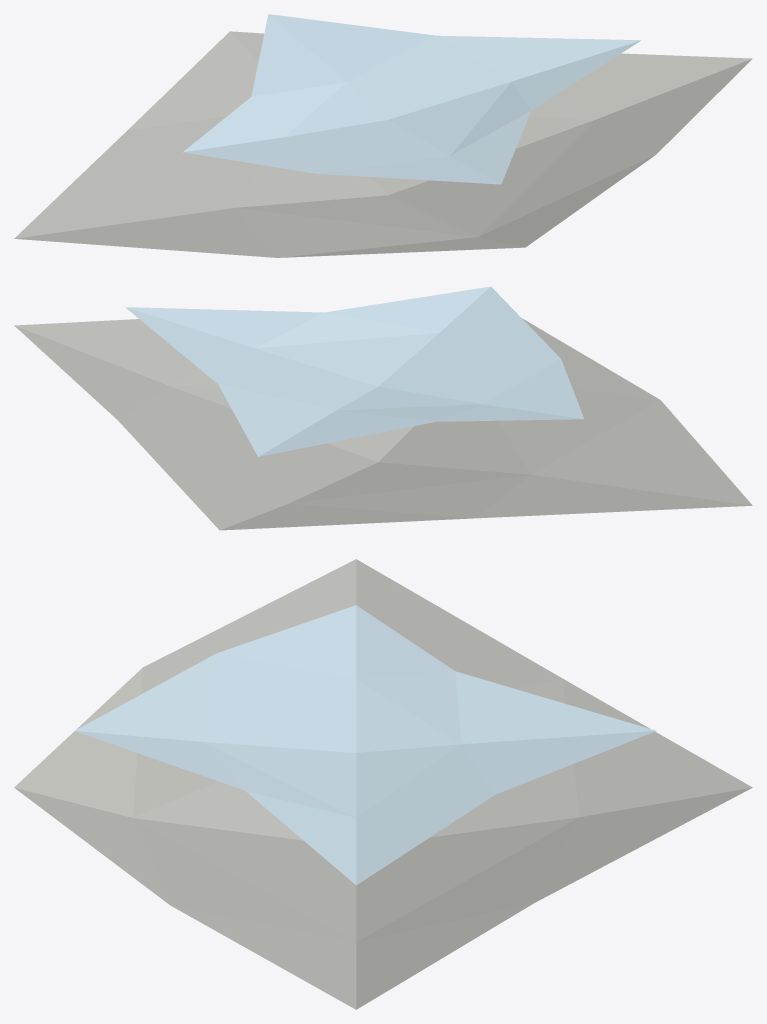
Rendered from puddle_stone_v11.glb.
3 renders of one model, top to bottom at view 1: azimuth 30°, elevation 25°; view 2: azimuth 150°, elevation 25°; view 3: azimuth 270°, elevation 25°, orthographic. The views are drawn at different scales.
Visible parts, largest first — view 1: lod0; view 2: lod0; view 3: lod0.
Part boxes in pixels (x1=…): lod0: x1=14, y1=14, x2=752, y2=257; lod0: x1=14, y1=286, x2=752, y2=530; lod0: x1=14, y1=559, x2=752, y2=1009.
Size of what is drawn, in the model's own units: 1.19 by 0.1772 by 0.826.
